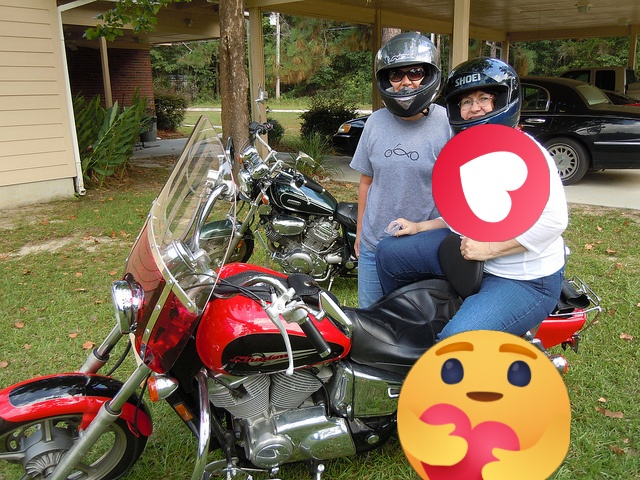care: (397, 330, 571, 480)
love: (432, 124, 550, 242)
